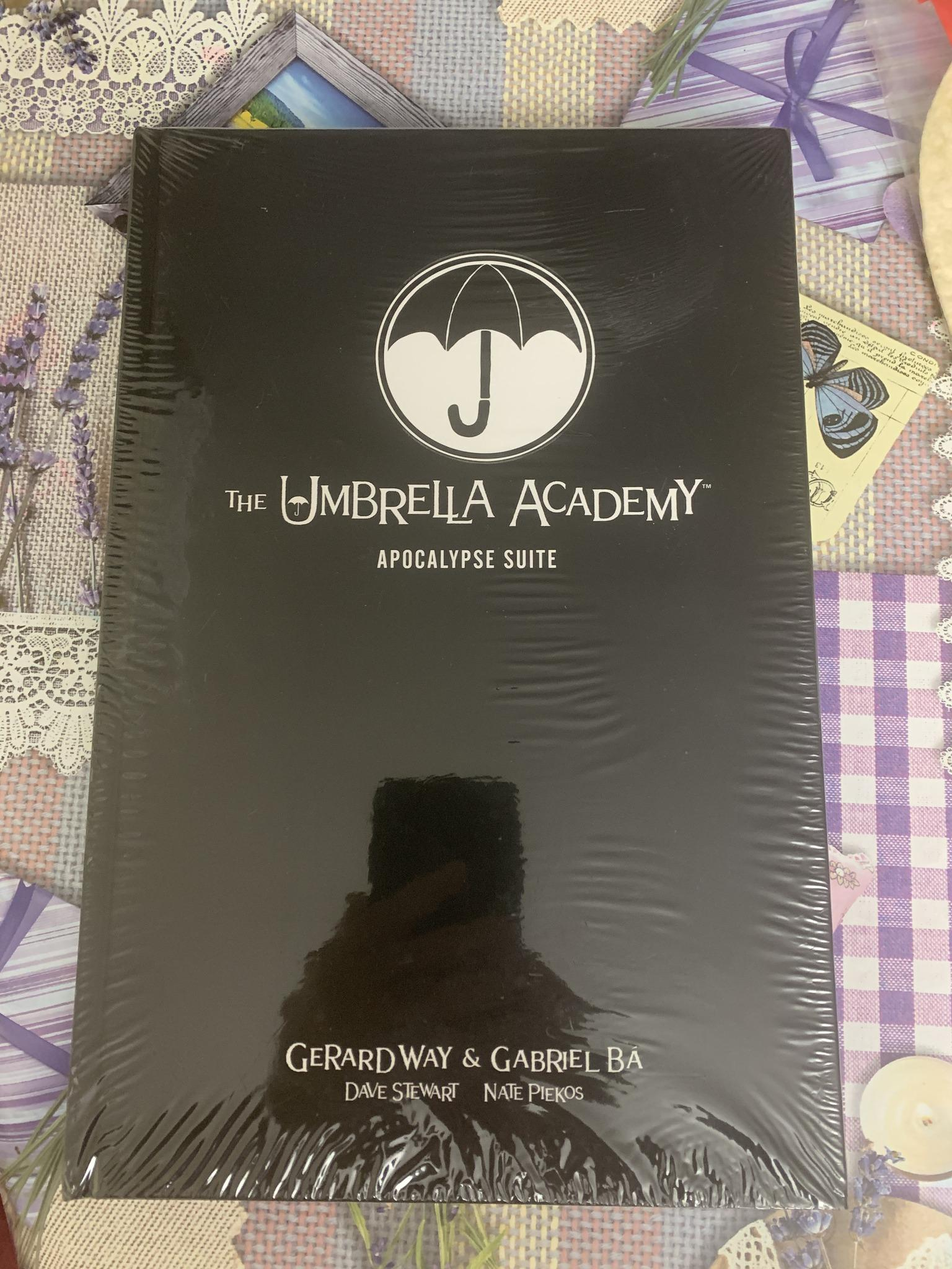comic: (68, 130, 844, 1205)
